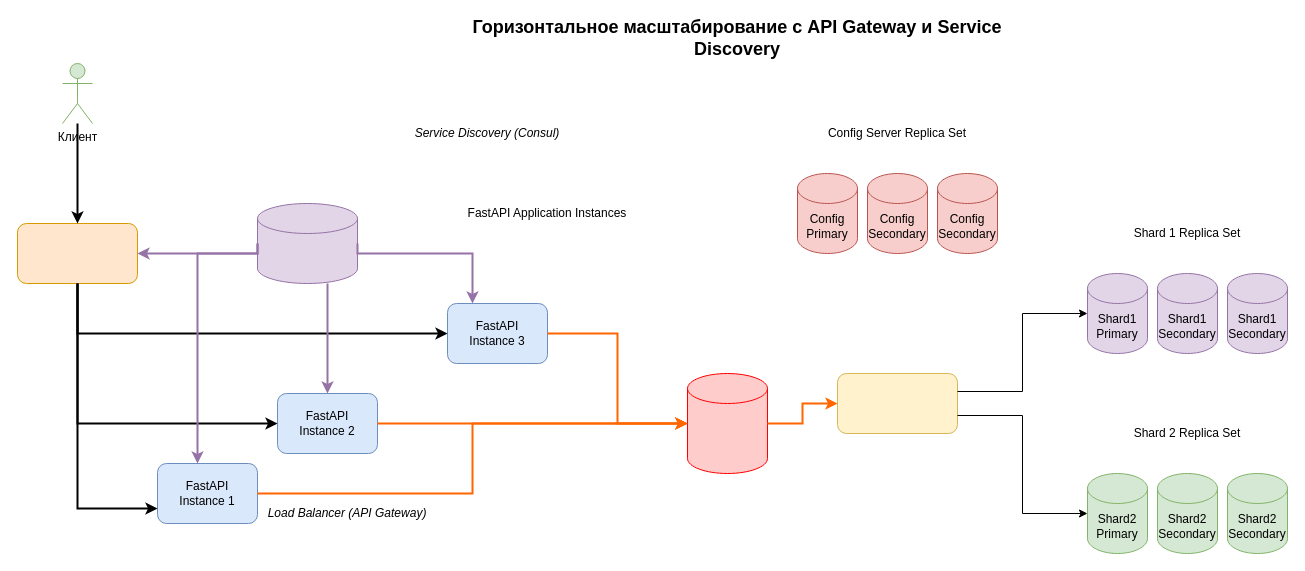
The diagram is 1305 pixels wide and 571 high, and some of its shapes have lost their labels. Here are the shapes that lost their labels. From the top down, the centre of each, then its label:
At pixel 77 253: "API Gateway (Nginx/HAProxy)".
At pixel 307 243: "Consul Service Discovery".
At pixel 727 423: "Redis Cache".
At pixel 897 403: "MongoDB Router (mongos)".
